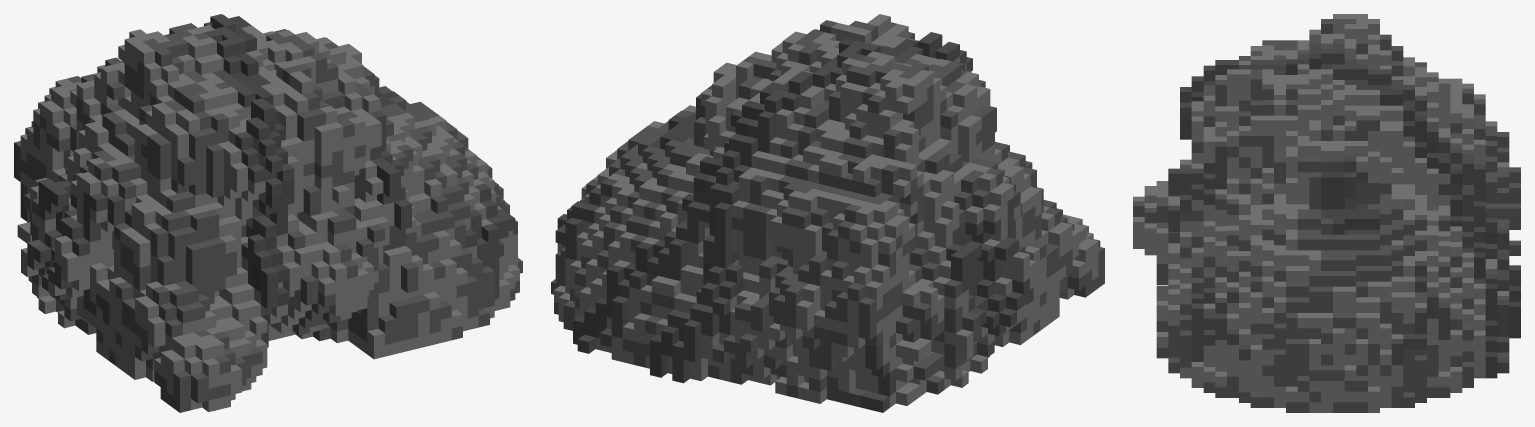
Rendered from boulder.obj.
The picture shows the model from 3 angles, left to right: view 1: azimuth 30°, elevation 25°; view 2: azimuth 150°, elevation 25°; view 3: azimuth 270°, elevation 25°; orthographic projection. The views are drawn at different scales.
Size of the model in its own units: 3.9 by 2.3 by 3.3.
1 material, 1 textured.
